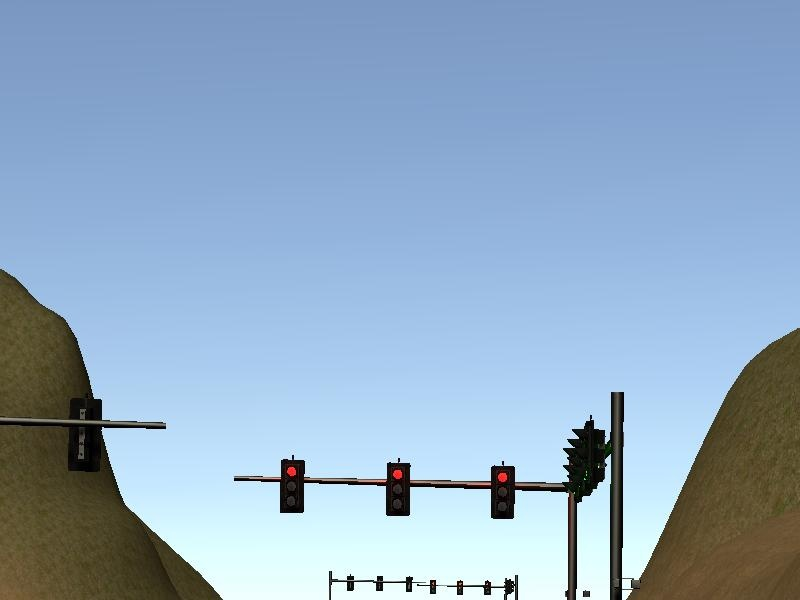red: (278, 458, 306, 514), (384, 462, 411, 516), (489, 464, 515, 520)
